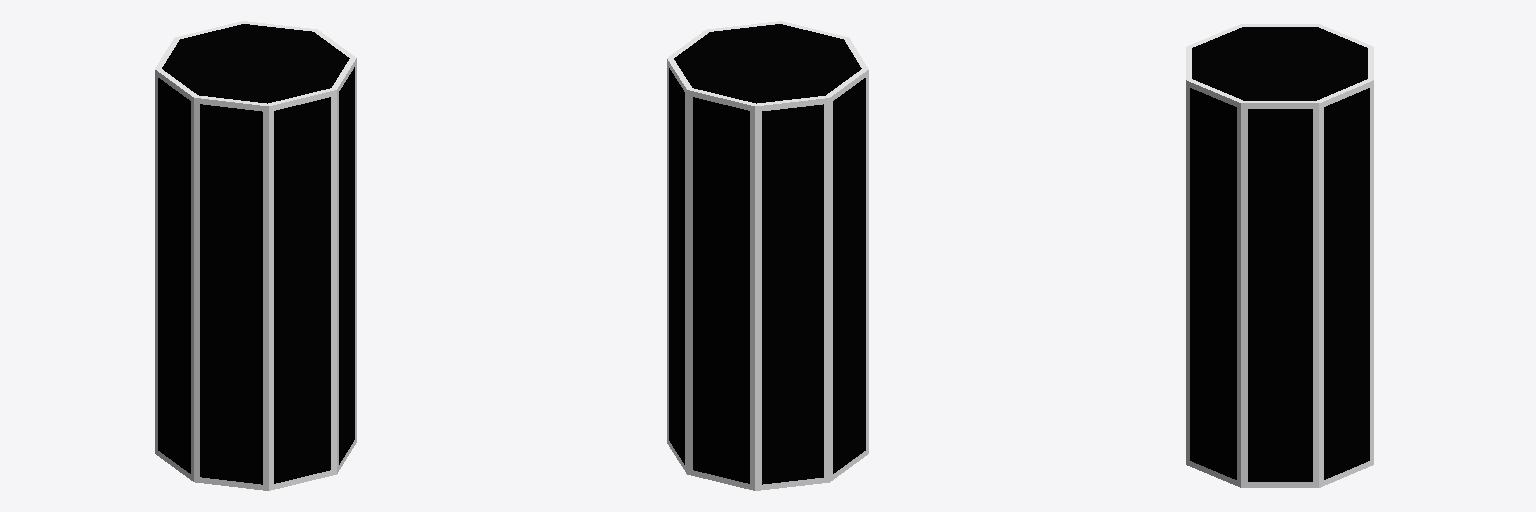
The picture shows the model from 3 angles: view 1: azimuth 30°, elevation 25°; view 2: azimuth 150°, elevation 25°; view 3: azimuth 270°, elevation 25°; orthographic projection.
Parts seen in each view (by area): view 1: 平面; view 2: 平面; view 3: 平面.
Part boxes in pixels (left/top/right/bottom): 平面: left=155, top=21, right=356, bottom=490; 平面: left=667, top=21, right=868, bottom=490; 平面: left=1186, top=24, right=1373, bottom=487.
Size of the model in its own units: 4.43 by 10 by 4.43.
1 materials, 1 textured.